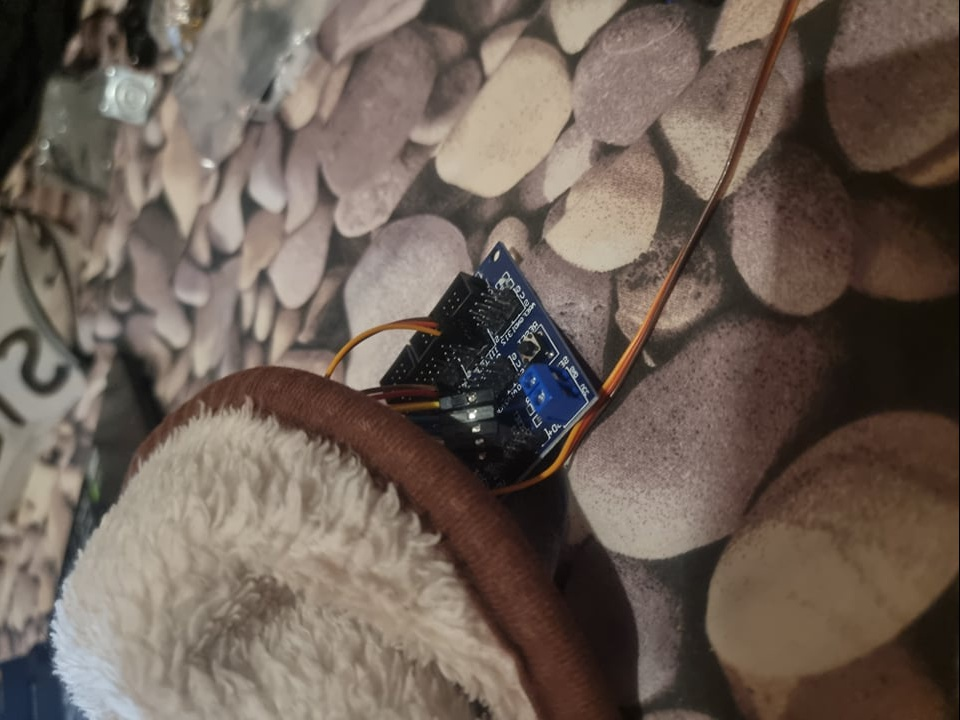5V EXPANSION: (379, 239, 606, 499)
